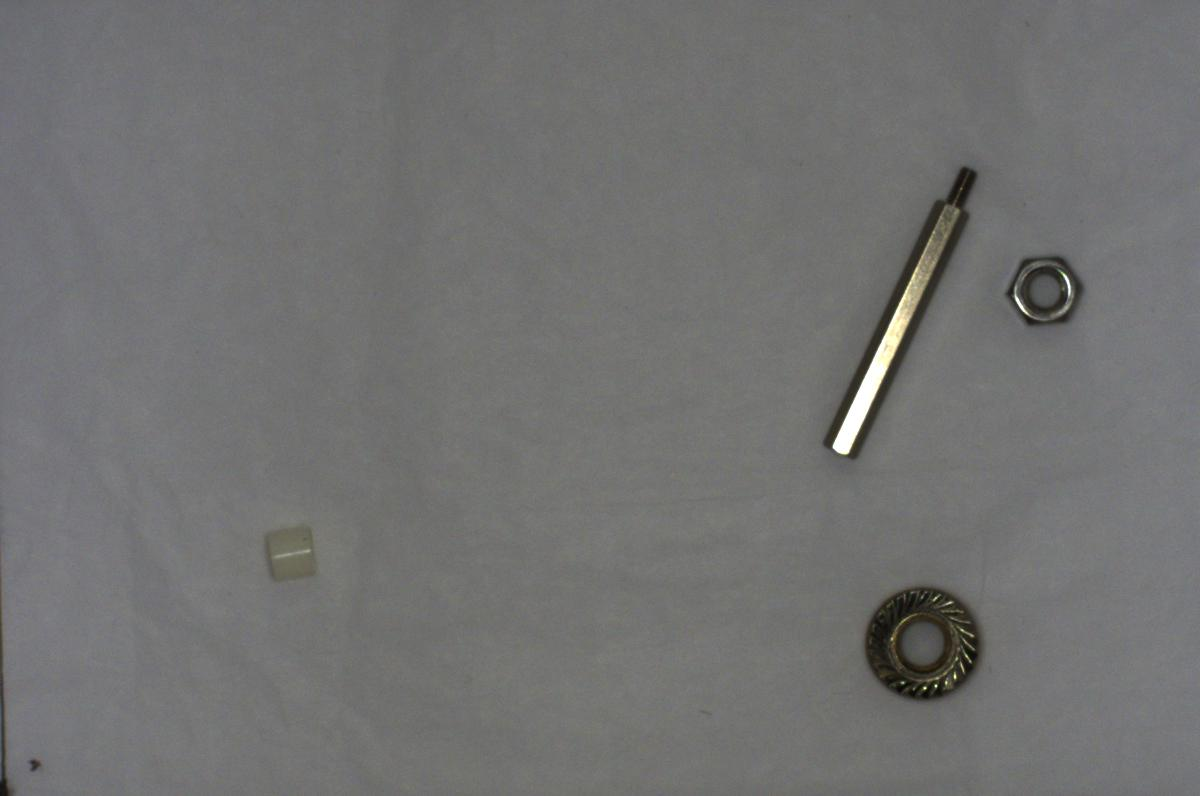Flange nut: (844, 568, 1012, 707)
Hexagon nut: (1000, 241, 1090, 328)
Hexagonal steel column: (802, 155, 980, 462)
Plastic cushion pillar: (259, 516, 330, 587)
